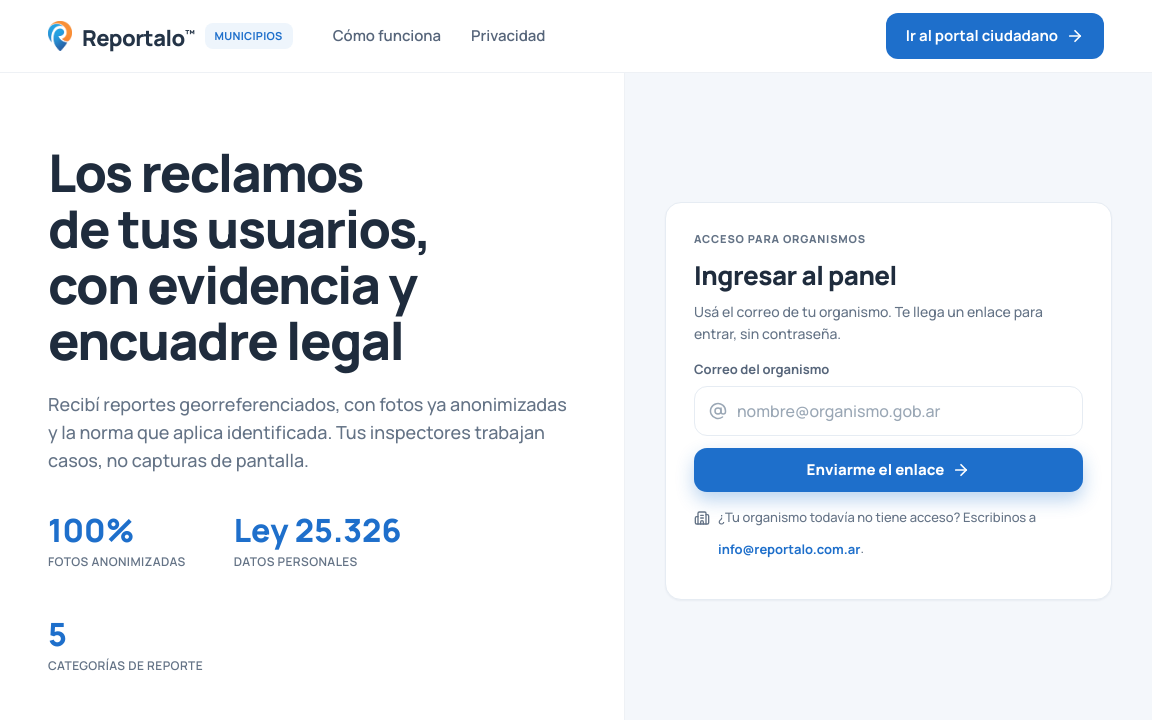
Test: REP-3747 · acceso al panel en la landing de municipios › UT-3747-L3: pide el enlace sin crear cuentas y vuelve al panel
The width and height of the screenshot is (1152, 720).
Type " Operador.CABA@Prueba.Reportalo.ar " into the field labelled "Correo del organismo" at (902, 411), box [737, 399, 1068, 423]
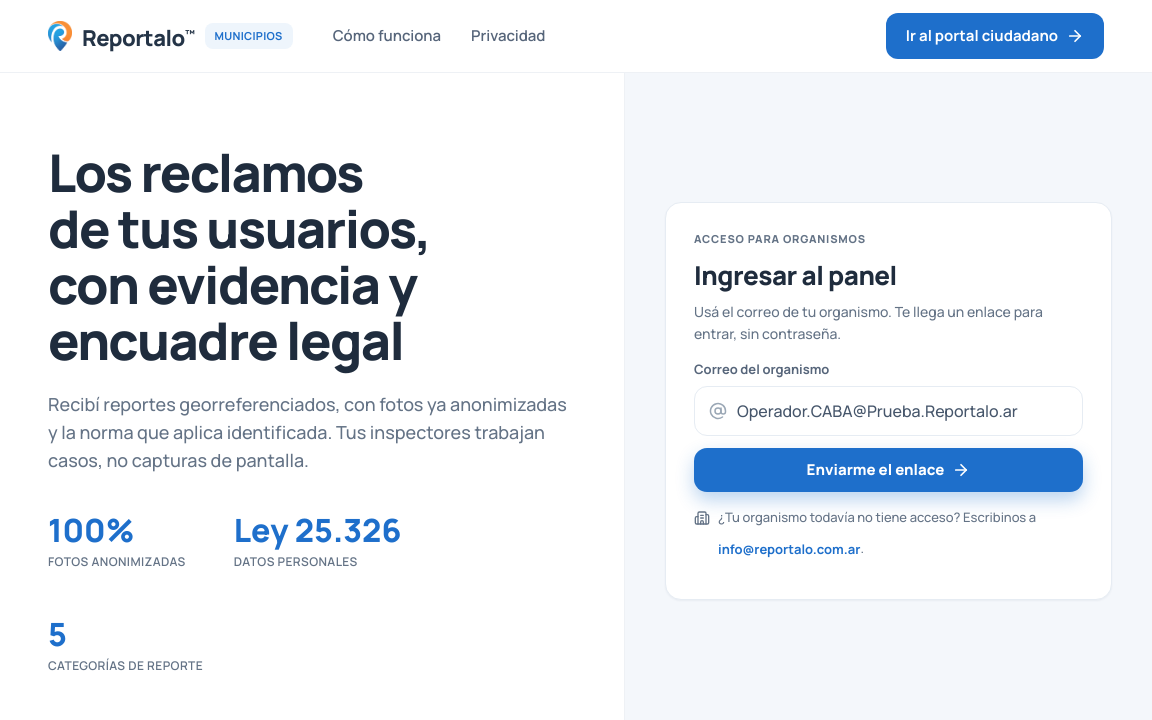
Click the button "Enviarme el enlace" at (888, 470), box [694, 448, 1083, 492]
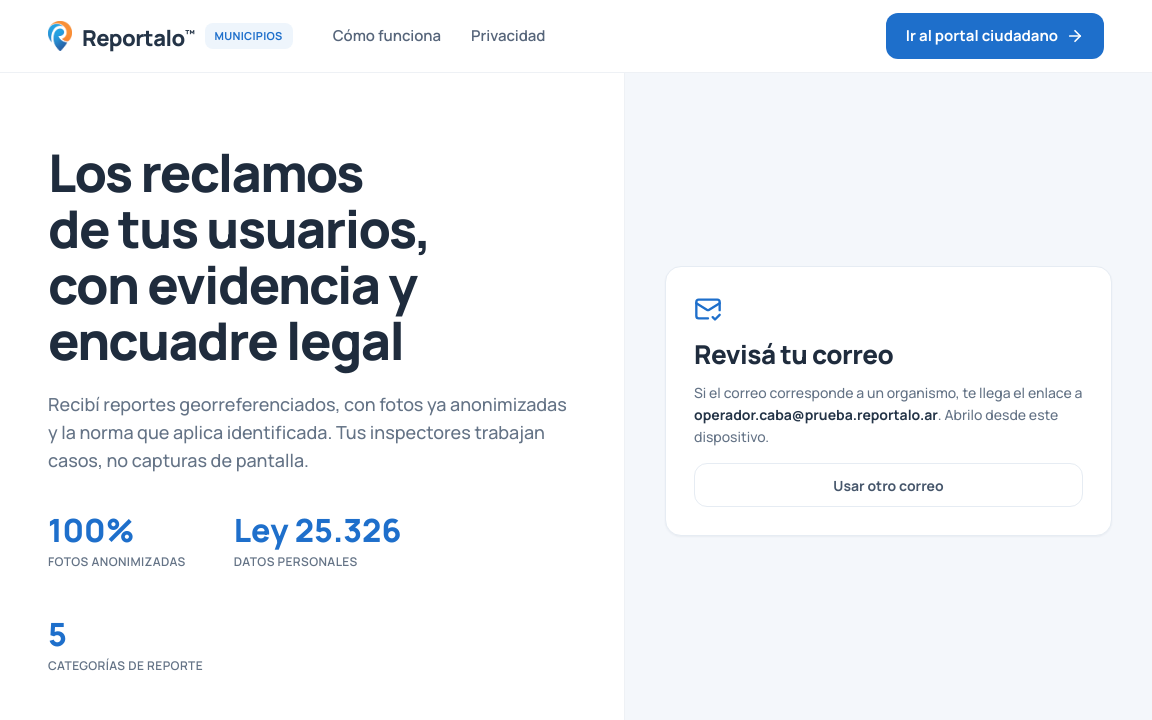
Now the heading "Revisá tu correo" is shown, box [694, 336, 893, 372]
Click the button "Usar otro correo" at (888, 485), box [694, 463, 1083, 507]
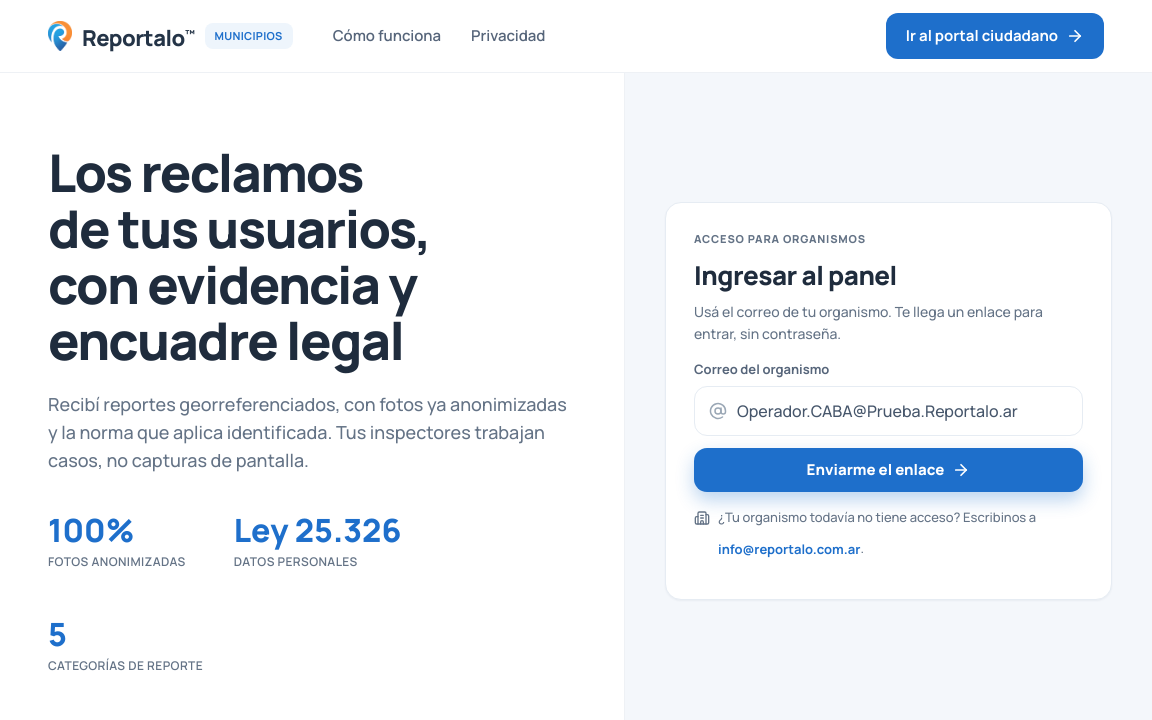
Now the field labelled "Correo del organismo" is shown, box [737, 399, 1068, 423]
